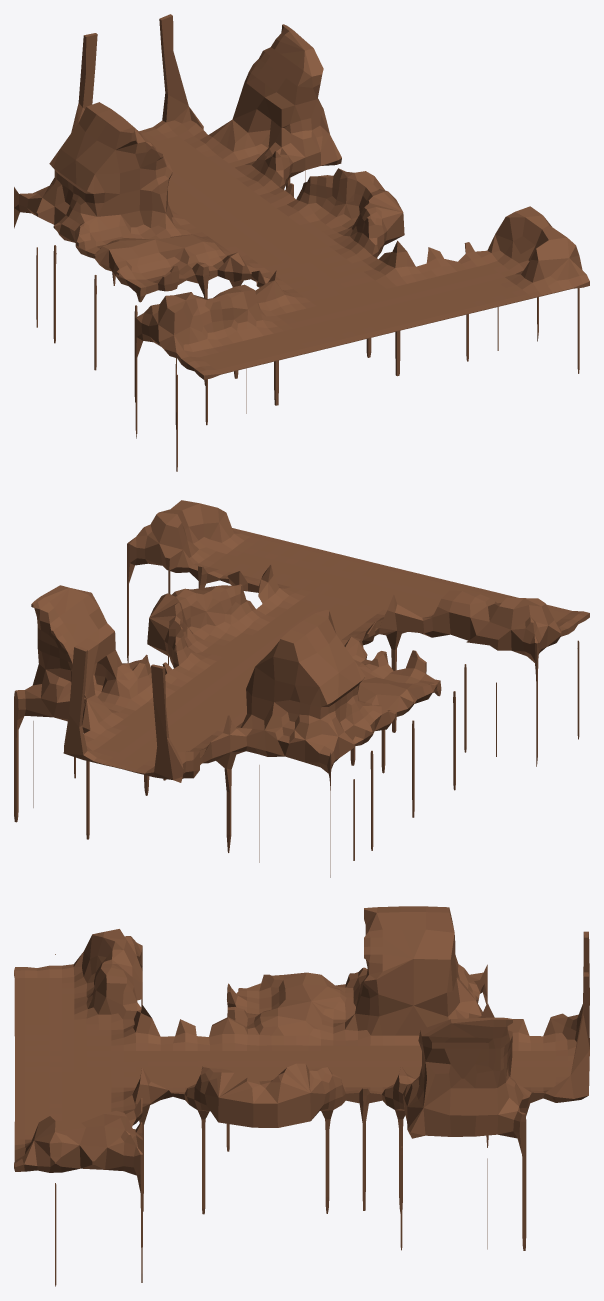
Rendered from Port1-2.glb.
3 views of the same model, one above another, from view 1: azimuth 30°, elevation 25°; view 2: azimuth 150°, elevation 25°; view 3: azimuth 270°, elevation 25° (orthographic). The views are drawn at different scales.
Visible parts, largest first — view 1: Chair.002; view 2: Chair.002; view 3: Chair.002.
Part boxes in pixels (x1,y1,x2,y2): Chair.002: (14, 14, 589, 471); Chair.002: (14, 500, 589, 877); Chair.002: (14, 906, 589, 1286).
Size of the model in its own units: 24.04 by 12.26 by 28.01.
